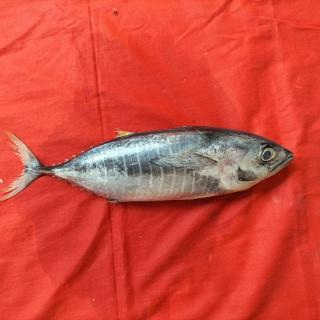Ikan: (1, 125, 299, 222)
